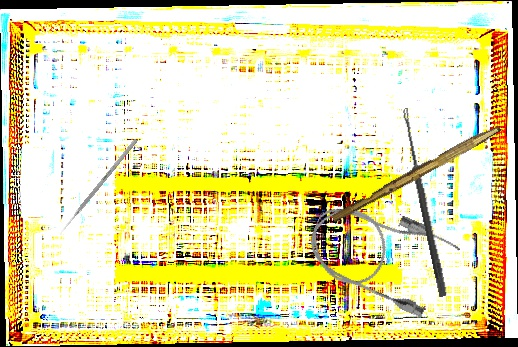Cannula: (298, 185, 464, 322)
Pusher: (58, 138, 138, 236)
Scalpel Handle: (330, 119, 502, 227)
Surgical Spoon: (399, 107, 449, 298)
